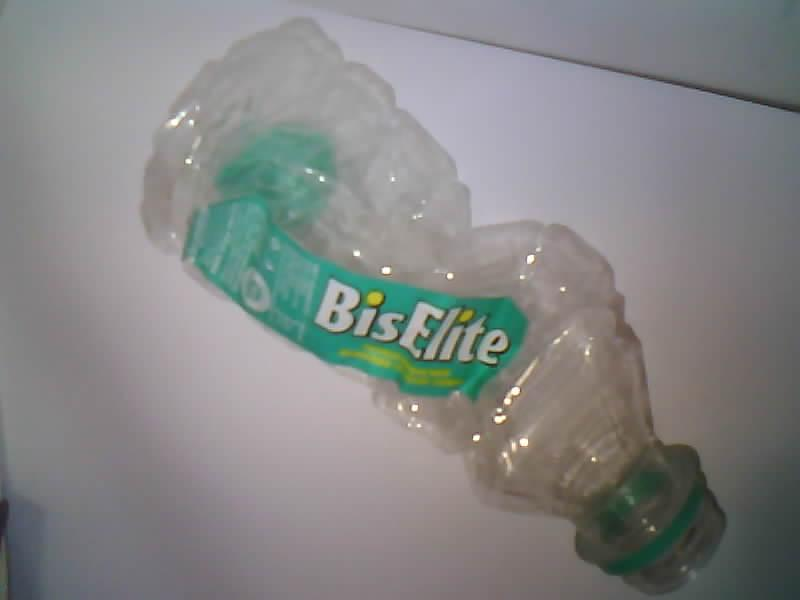non-biodegradable: (143, 19, 724, 592)
